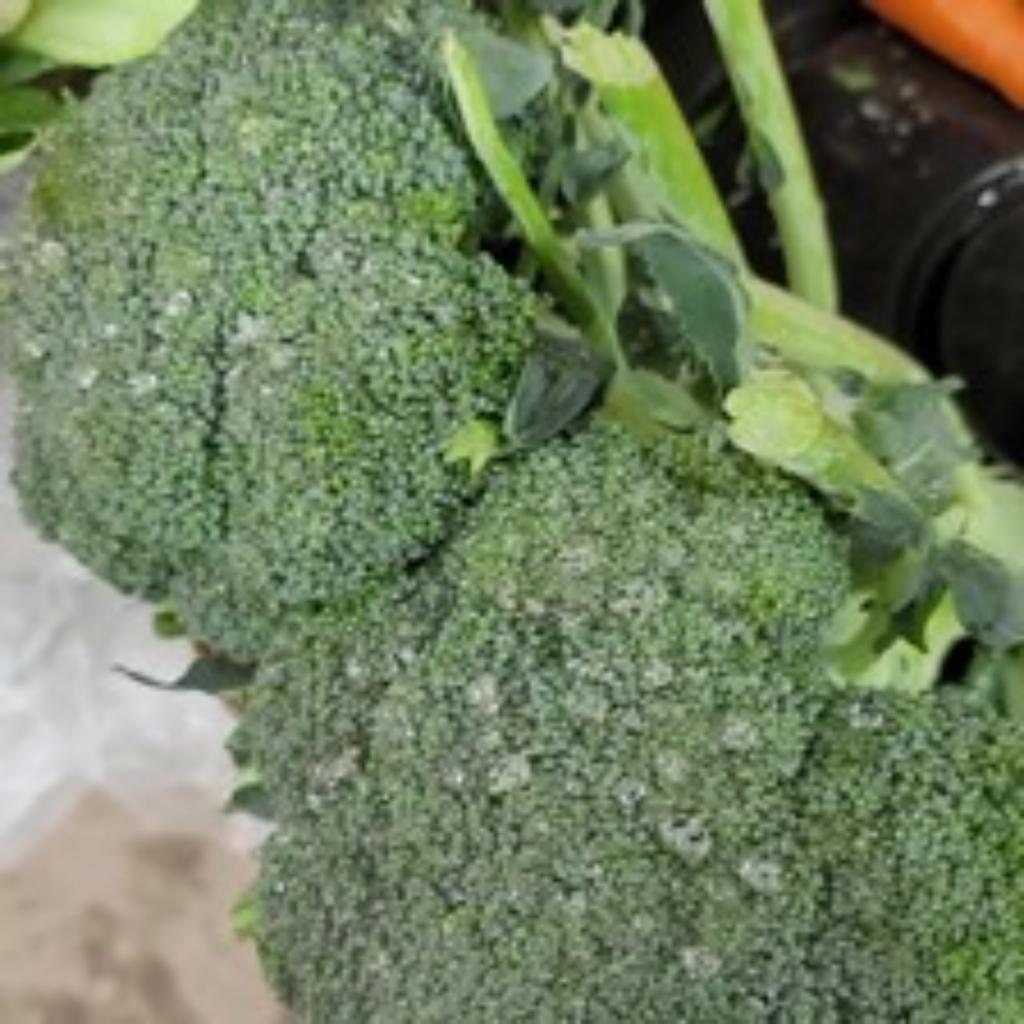Broccoli: (250, 424, 1024, 1024), (256, 426, 1024, 1024), (18, 0, 534, 655), (20, 6, 532, 655)
